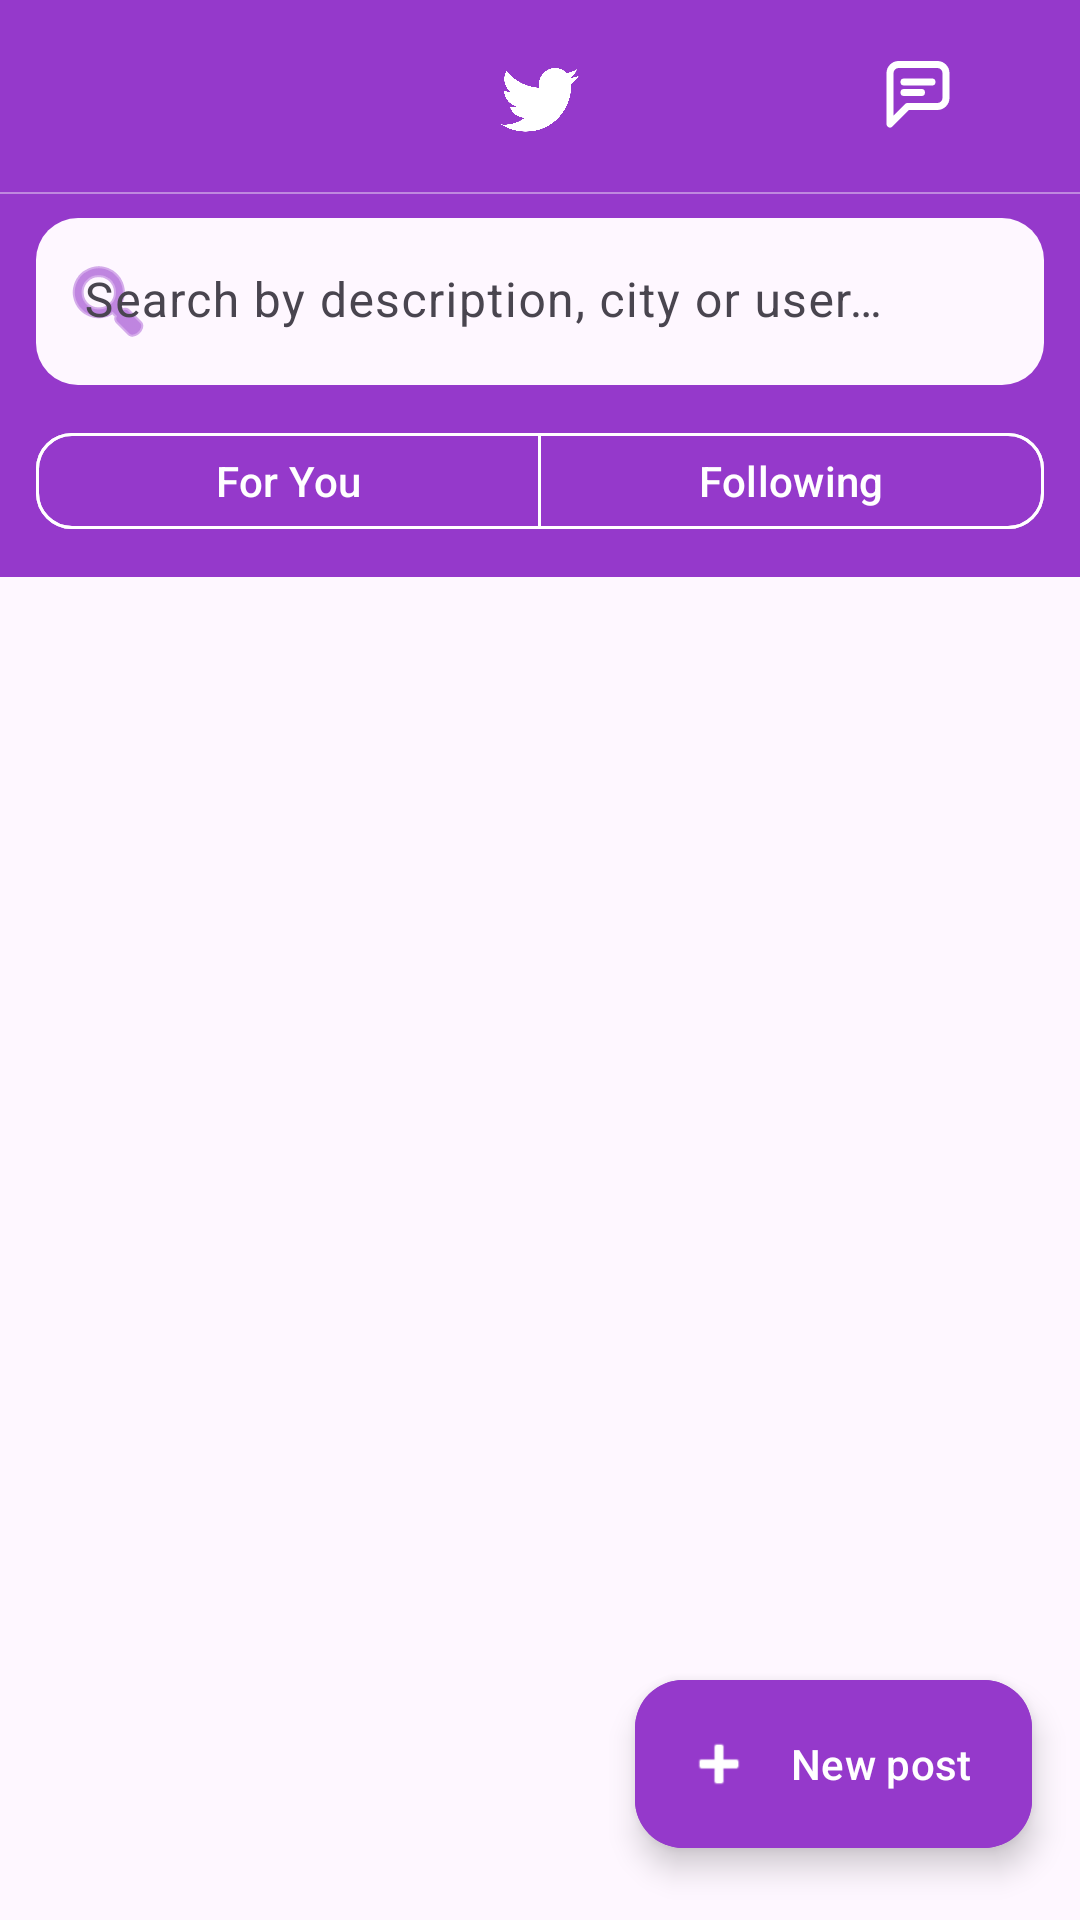

Screen size 1080x1920. Icon name, then its box in pixels as detection(x1, y1, x2, y2):
Conversations: detection(886, 61, 950, 128)
